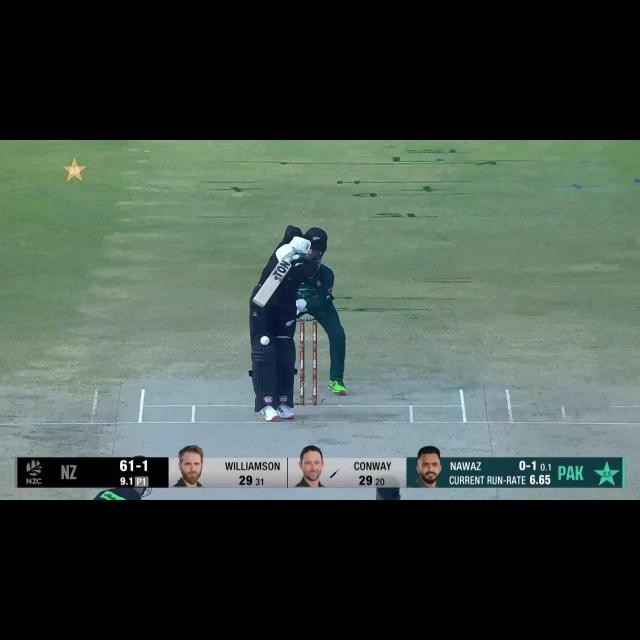bat: (249, 256, 294, 316)
toe: (250, 294, 268, 312)
